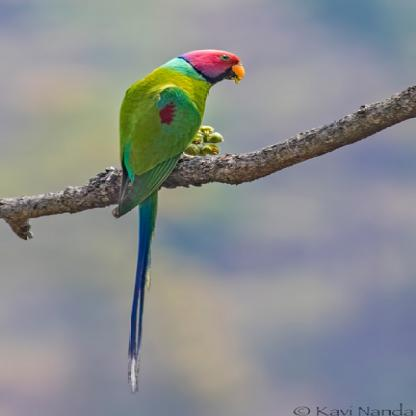Burung: (110, 49, 244, 392)
